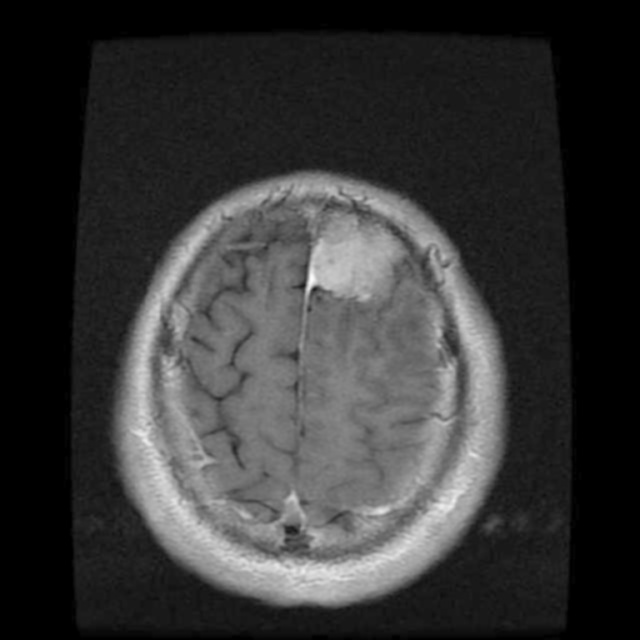meningioma tumor: (262, 201, 413, 319)
